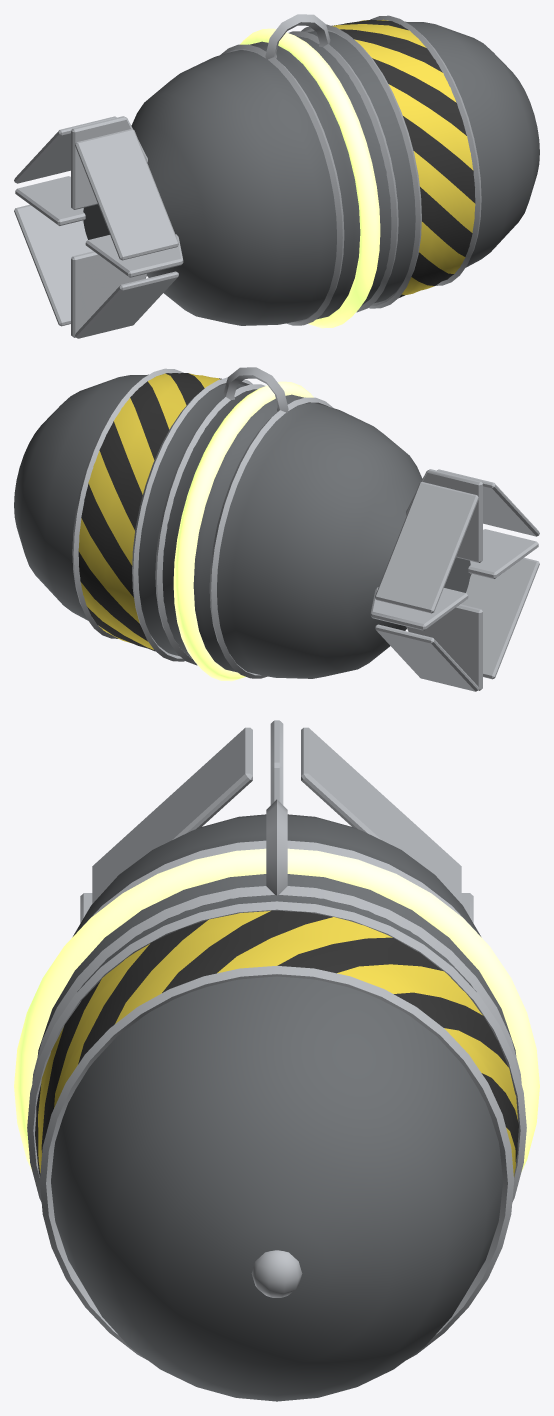
The model's file is nuke.glb.
3 renders of one model, top to bottom at view 1: azimuth 30°, elevation 25°; view 2: azimuth 150°, elevation 25°; view 3: azimuth 270°, elevation 25°, orthographic. The views are drawn at different scales.
Visible parts, largest first — view 1: nuke; view 2: nuke; view 3: nuke.
Boxes of the visible parts, x1,y1,x2,y2 form: nuke: [14, 14, 539, 338]; nuke: [14, 367, 539, 691]; nuke: [14, 720, 539, 1401].
Size of the model in its own units: 1.03 by 0.641 by 0.588.
